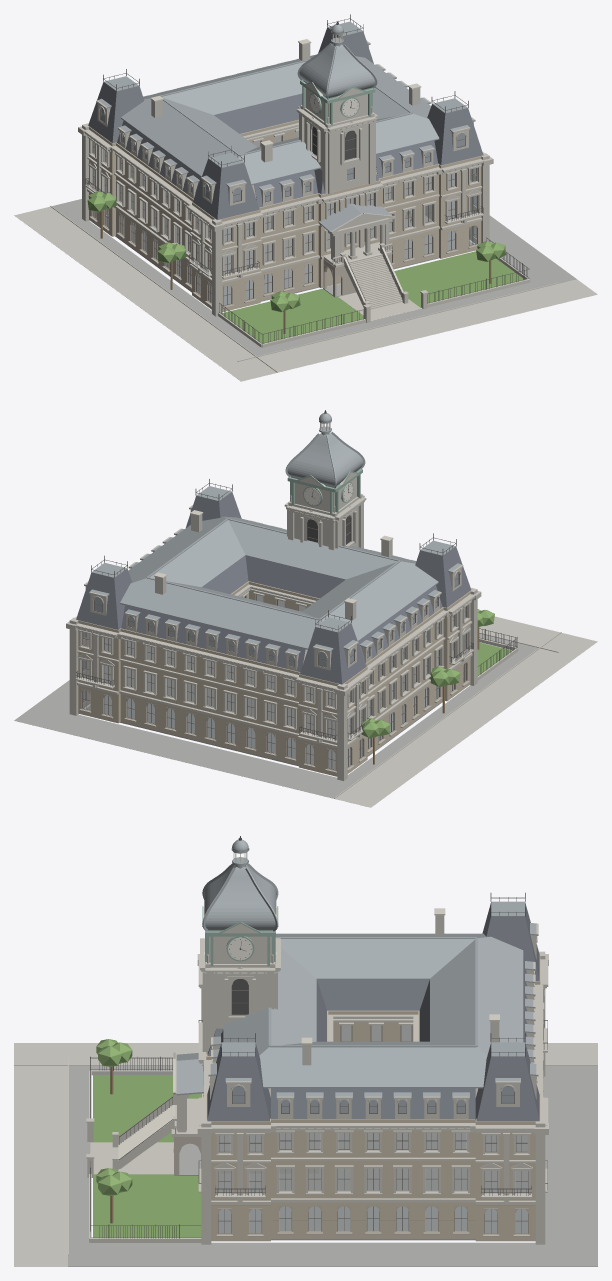
File: clay-second-empire-city-hall-clay-v002.glb
The picture shows the model from 3 angles, top to bottom: view 1: azimuth 30°, elevation 25°; view 2: azimuth 150°, elevation 25°; view 3: azimuth 270°, elevation 25°; orthographic projection. The views are drawn at different scales.
Parts seen in each view (by area): view 1: CLAY_STONE, CLAY_ZINC, CLAY_WALL, CLAY_CONCRETE, CLAY_ROOF, CLAY_PLANTING, CLAY_FOUNDATION, CLAY_GLASS, CLAY_TRIM, CLAY_HARDWARE, CLAY_RUSTIC, CLAY_FLOOR (+2 smaller); view 2: CLAY_STONE, CLAY_ZINC, CLAY_WALL, CLAY_ROOF, CLAY_FOUNDATION, CLAY_CONCRETE, CLAY_GLASS, CLAY_TRIM, CLAY_FLOOR, CLAY_RUSTIC, CLAY_HARDWARE, CLAY_PLANTING (+1 smaller); view 3: CLAY_ZINC, CLAY_STONE, CLAY_FOUNDATION, CLAY_WALL, CLAY_ROOF, CLAY_CONCRETE, CLAY_PLANTING, CLAY_GLASS, CLAY_FLOOR, CLAY_TRIM, CLAY_HARDWARE, CLAY_RUSTIC (+2 smaller).
Boxes of the visible parts, <box> form: CLAY_STONE: <box>50,40,558,372</box>; CLAY_ZINC: <box>97,21,475,232</box>; CLAY_WALL: <box>89,119,483,312</box>; CLAY_CONCRETE: <box>14,206,597,381</box>; CLAY_ROOF: <box>88,27,483,219</box>; CLAY_PLANTING: <box>87,191,524,343</box>; CLAY_FOUNDATION: <box>52,199,576,355</box>; CLAY_GLASS: <box>93,107,476,305</box>; CLAY_TRIM: <box>92,109,477,305</box>; CLAY_HARDWARE: <box>85,14,529,344</box>; CLAY_RUSTIC: <box>89,209,478,308</box>; CLAY_FLOOR: <box>106,131,471,272</box>; CLAY_STONE: <box>66,472,561,798</box>; CLAY_ZINC: <box>84,413,461,655</box>; CLAY_WALL: <box>75,581,471,776</box>; CLAY_ROOF: <box>76,492,471,684</box>; CLAY_FOUNDATION: <box>14,633,538,798</box>; CLAY_CONCRETE: <box>335,616,597,807</box>; CLAY_GLASS: <box>82,572,466,769</box>; CLAY_TRIM: <box>82,518,466,770</box>; CLAY_FLOOR: <box>88,595,453,737</box>; CLAY_RUSTIC: <box>79,661,470,773</box>; CLAY_HARDWARE: <box>76,410,517,741</box>; CLAY_PLANTING: <box>361,609,511,738</box>; CLAY_ZINC: <box>176,839,537,1098</box>; CLAY_STONE: <box>14,908,597,1255</box>; CLAY_FOUNDATION: <box>68,1066,597,1266</box>; CLAY_WALL: <box>206,956,540,1241</box>; CLAY_ROOF: <box>207,903,539,1121</box>; CLAY_CONCRETE: <box>14,1043,597,1266</box>; CLAY_PLANTING: <box>93,1039,202,1237</box>; CLAY_GLASS: <box>218,1025,527,1232</box>; CLAY_FLOOR: <box>218,1025,527,1192</box>; CLAY_TRIM: <box>218,985,528,1233</box>; CLAY_HARDWARE: <box>90,836,547,1238</box>; CLAY_RUSTIC: <box>173,1070,543,1236</box>.
Size of the model in its own units: 59 by 39.6 by 65.
